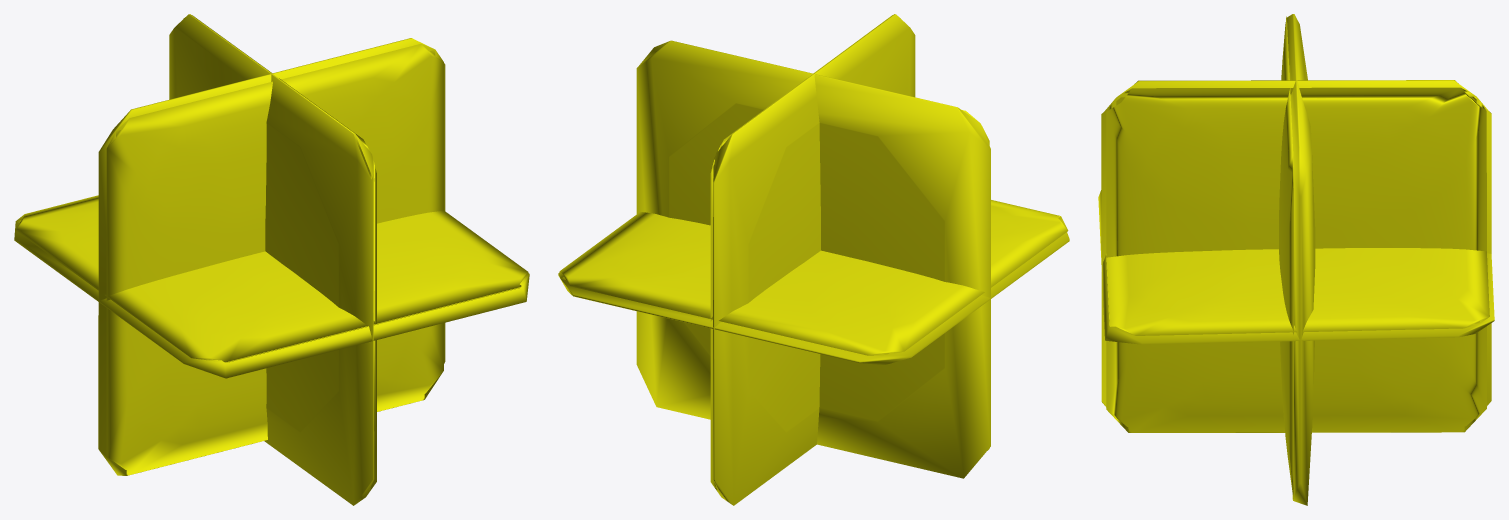
Rendered from lens.glb.
The picture shows the model from 3 angles, left to right: view 1: azimuth 30°, elevation 25°; view 2: azimuth 150°, elevation 25°; view 3: azimuth 270°, elevation 25°; orthographic projection. The views are drawn at different scales.
Parts seen in each view (by area): view 1: Lens; view 2: Lens; view 3: Lens.
Part boxes in pixels (bbox=[...]): Lens: bbox=[14, 14, 529, 505]; Lens: bbox=[558, 14, 1069, 505]; Lens: bbox=[1098, 14, 1494, 505].
Size of the model in its own units: 0.9937 by 0.9785 by 0.9938.
